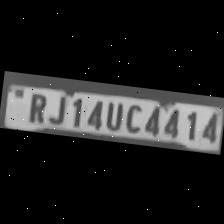1: (177, 106, 200, 139), (64, 92, 84, 126)
4: (196, 108, 222, 142), (159, 102, 182, 136), (83, 96, 107, 128), (141, 102, 164, 134)
C: (120, 99, 143, 132)
J: (46, 90, 70, 124)
R: (22, 88, 48, 122)
U: (102, 96, 124, 130)
